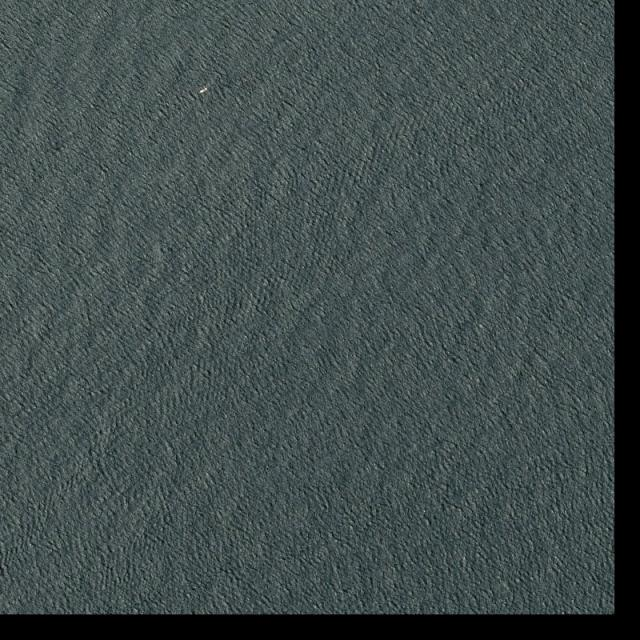ship: (198, 87, 208, 95)
